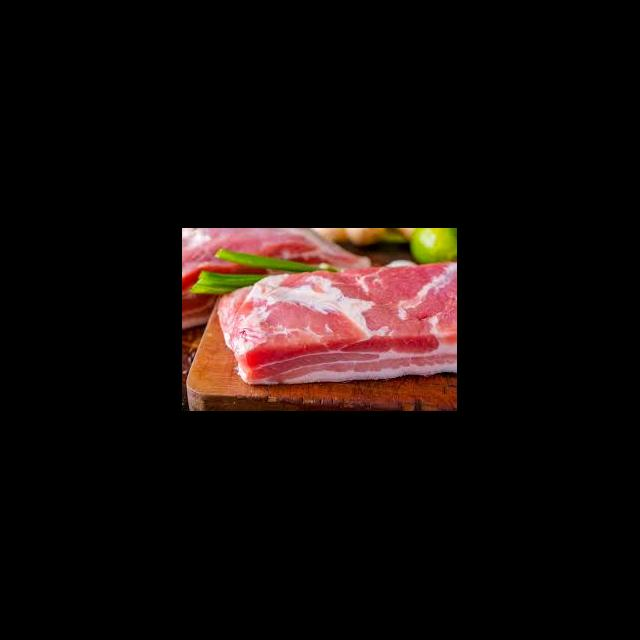pork: (225, 269, 458, 385)
